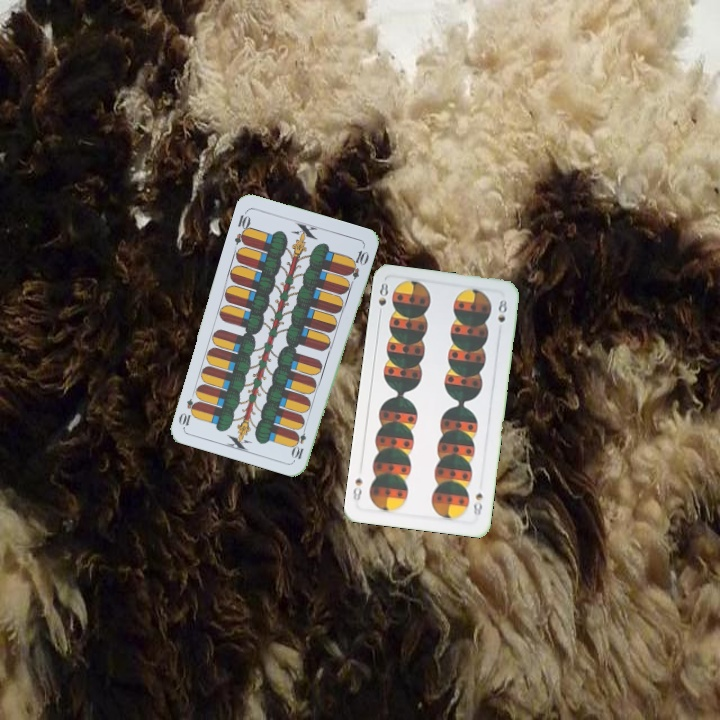E10: (230, 207, 253, 248), (289, 421, 309, 462)
S8: (374, 279, 391, 319), (469, 489, 485, 519)
